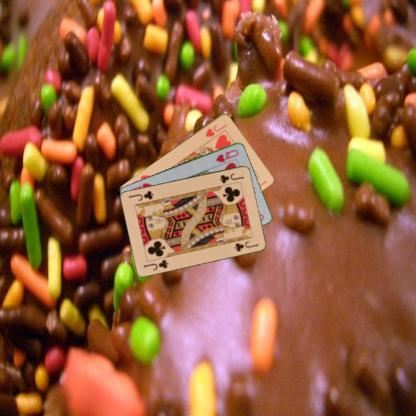Jc: (141, 256, 170, 272), (217, 170, 245, 184)
Jh: (203, 121, 228, 138)
Qh: (213, 146, 240, 164)
